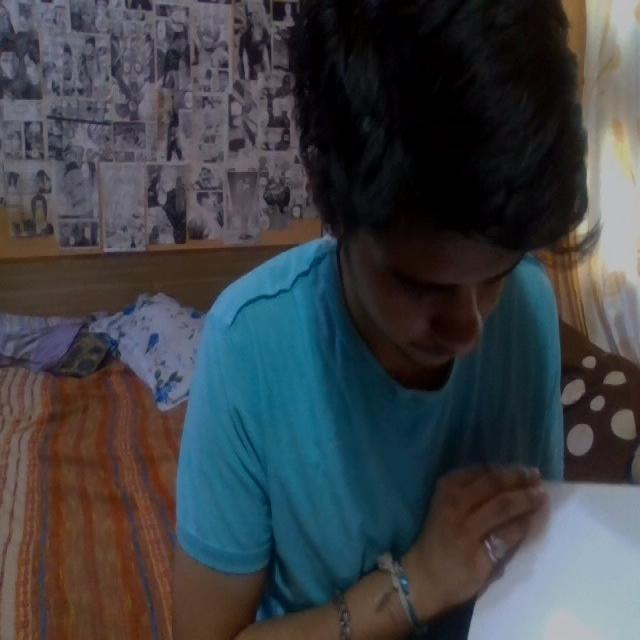focused: (138, 9, 612, 640)
